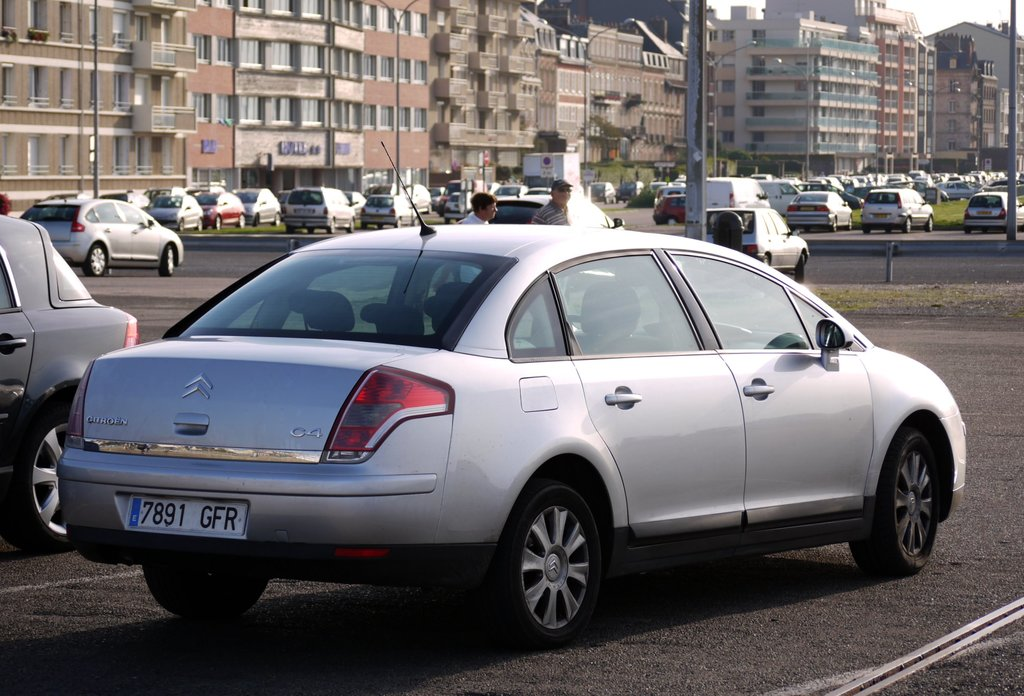Car: (0, 174, 1023, 647)
